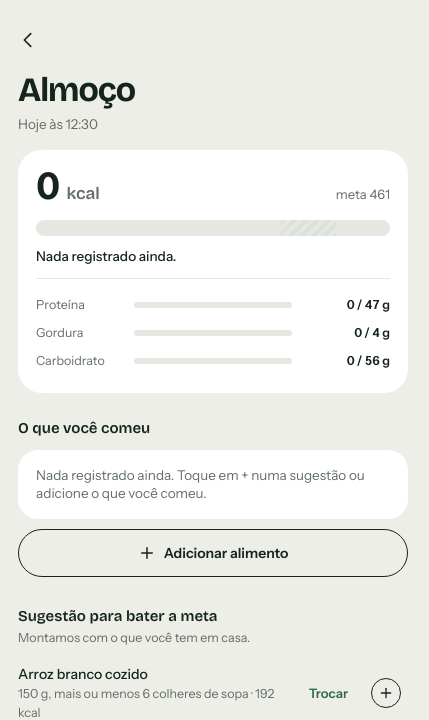
Test: Detalhe da refeição (S13) › dia virou: DAY_NOT_EDITABLE avisa e recarrega (Review Focus 4)
The image size is (429, 720).
Click the button named "Registrar Arroz". click: (386, 693)
box: [364,671,408,715]
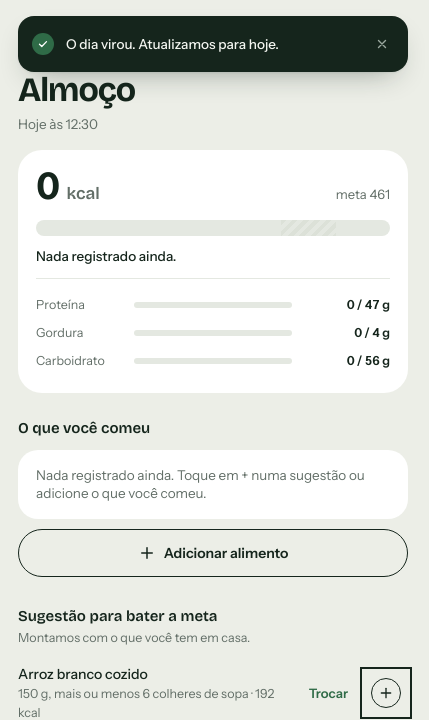
expect the text "O dia virou. Atualizamos para hoje." is shown: met, box [66,36,279,52]
